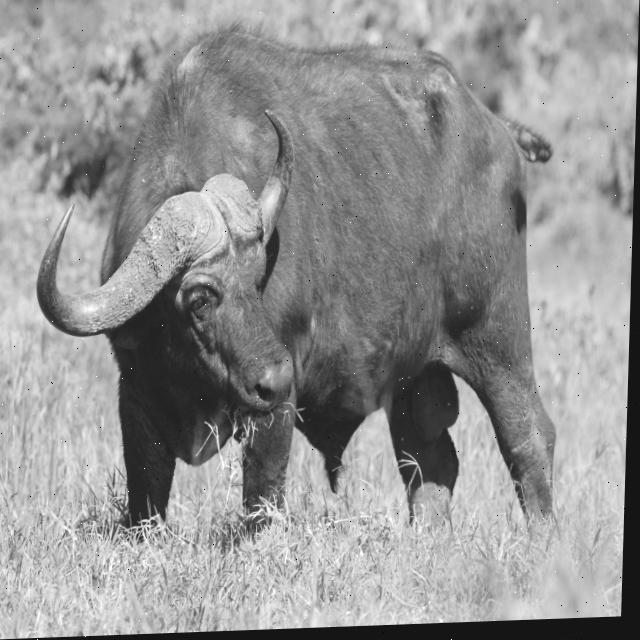Buffalo: (29, 17, 570, 564)
